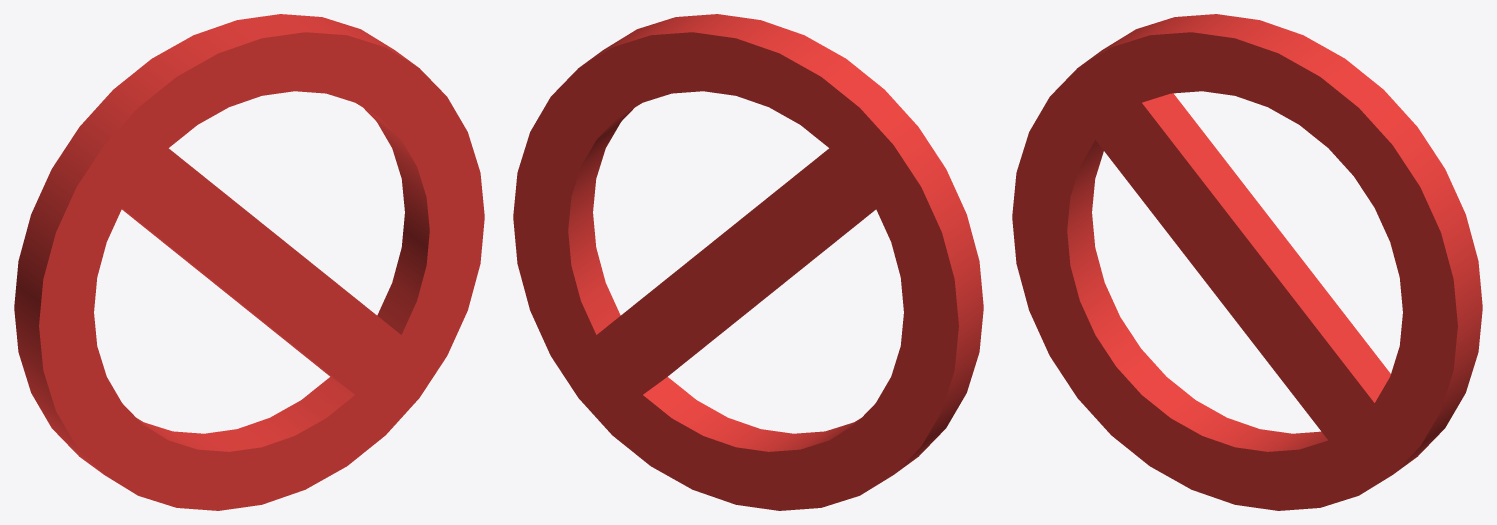
The model's file is prohibited.gltf.
3 renders of one model, left to right at view 1: azimuth 30°, elevation 25°; view 2: azimuth 150°, elevation 25°; view 3: azimuth 330°, elevation 25°, orthographic.
Parts seen in each view (by area): view 1: Circle.2618; view 2: Circle.2618; view 3: Circle.2618.
Boxes of the visible parts, left/top/right/bottom form: Circle.2618: left=14, top=14, right=484, bottom=510; Circle.2618: left=513, top=14, right=983, bottom=510; Circle.2618: left=1012, top=14, right=1482, bottom=510.
Bounding box in the file's own units: 1.92 × 1.92 × 0.1857.
Materials: 1 (1 with a texture image).
